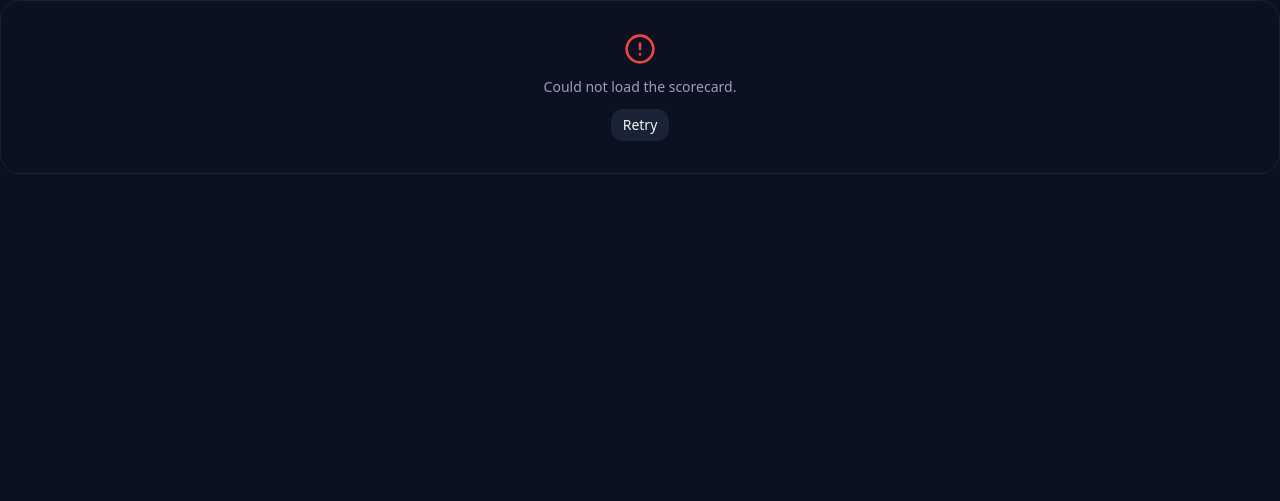
Test: ScorecardTab › shows an error state and retries on demand
The image size is (1280, 501).
Check: the text "Could not load the scorecard." is shown, box [544, 77, 736, 97]
Click the button "Retry": (640, 125) [611, 109, 669, 141]
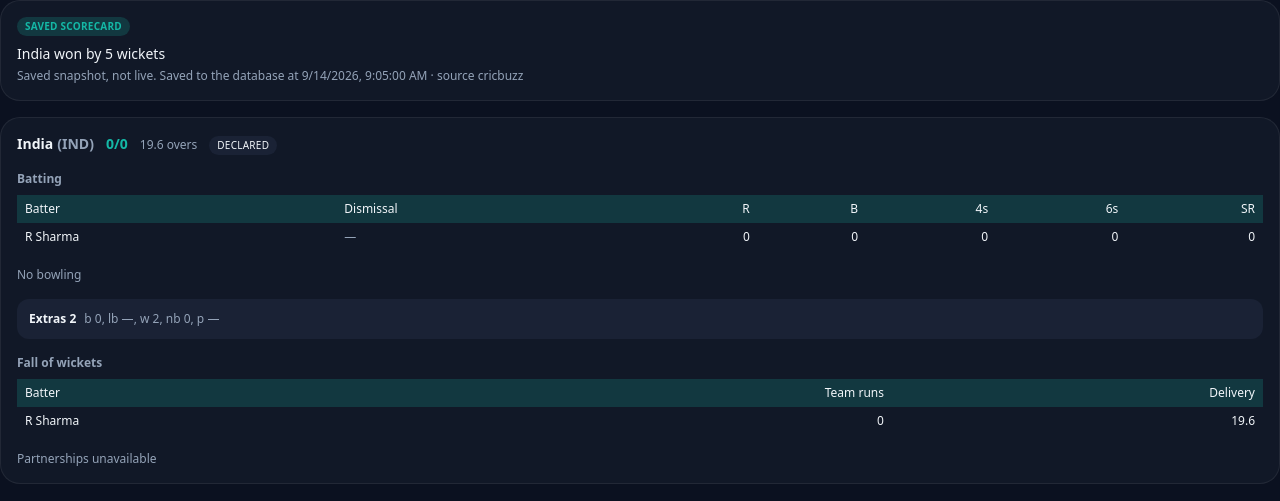
Check: the text "Saved scorecard" is shown, box [17, 17, 130, 36]
